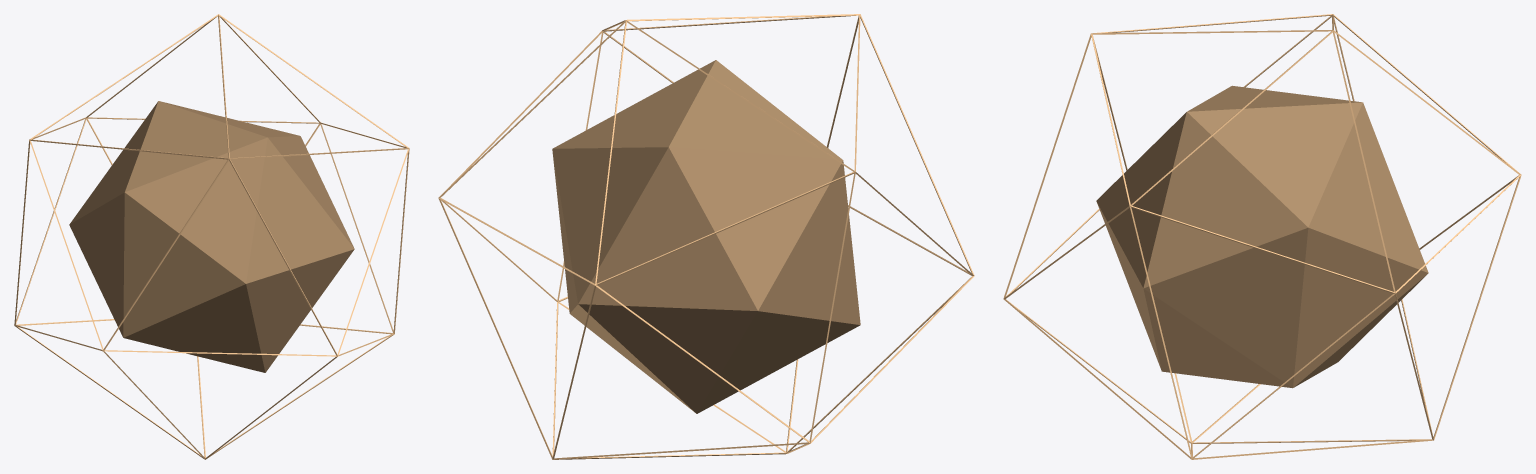
File: decaedro.glb
3 views of the same model, side by side, from view 1: azimuth 30°, elevation 25°; view 2: azimuth 150°, elevation 25°; view 3: azimuth 270°, elevation 25° (orthographic). The views are drawn at different scales.
Parts seen in each view (by area): view 1: Icosphere, Icosphere.001; view 2: Icosphere, Icosphere.001; view 3: Icosphere, Icosphere.001.
Part boxes in pixels (x1=…): Icosphere: x1=69, y1=101, x2=354, y2=372; Icosphere.001: x1=14, y1=14, x2=409, y2=459; Icosphere: x1=552, y1=60, x2=860, y2=413; Icosphere.001: x1=438, y1=14, x2=974, y2=459; Icosphere: x1=1096, y1=85, x2=1428, y2=388; Icosphere.001: x1=1003, y1=14, x2=1521, y2=459.
Size of the model in its own units: 2.11 by 2.34 by 2.41.
